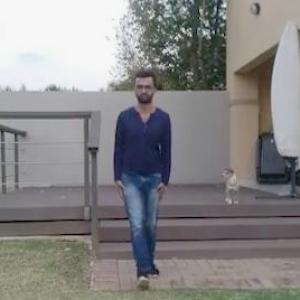follow: (114, 55, 185, 299)
